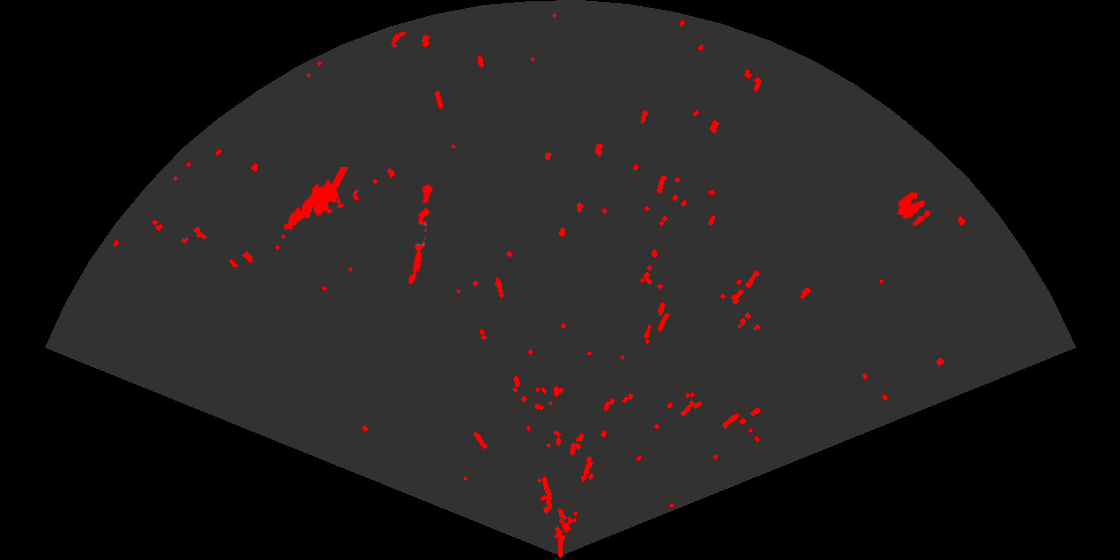ball: (896, 190, 932, 228)
chain: (407, 182, 435, 286)
frogman: (282, 167, 350, 232)
